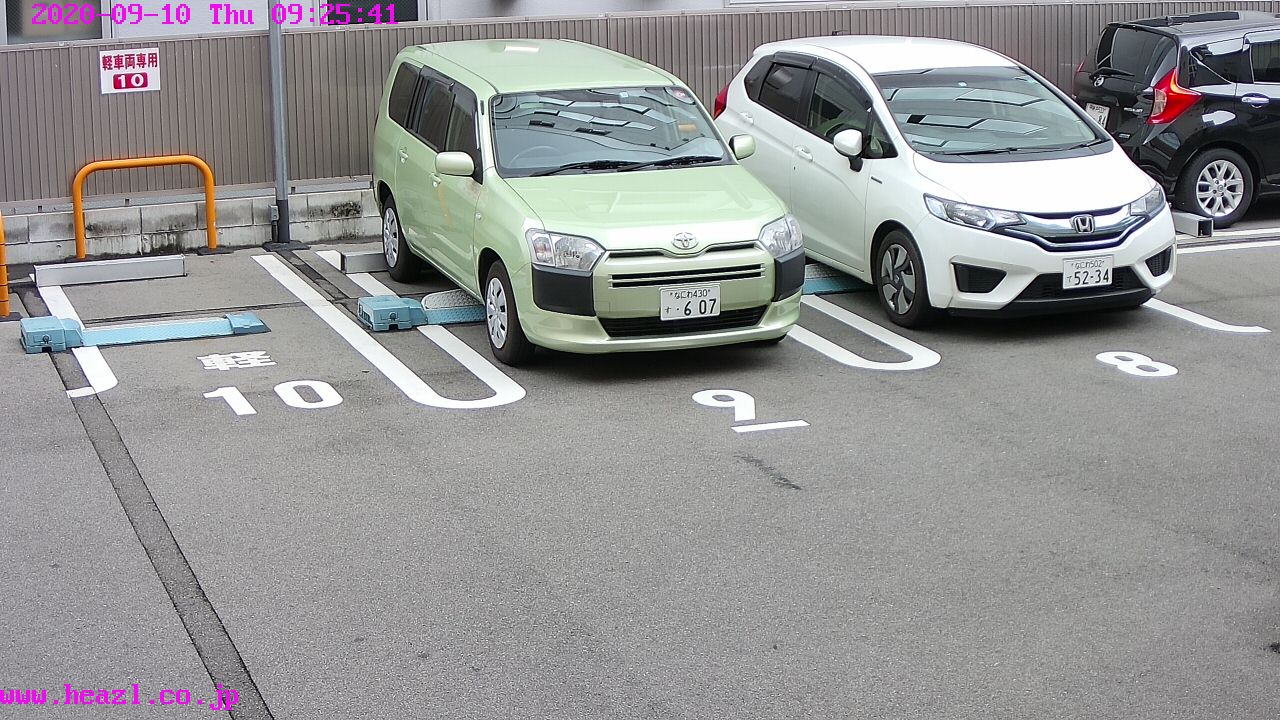number_plate: (660, 284, 722, 315), (1063, 254, 1113, 289)
